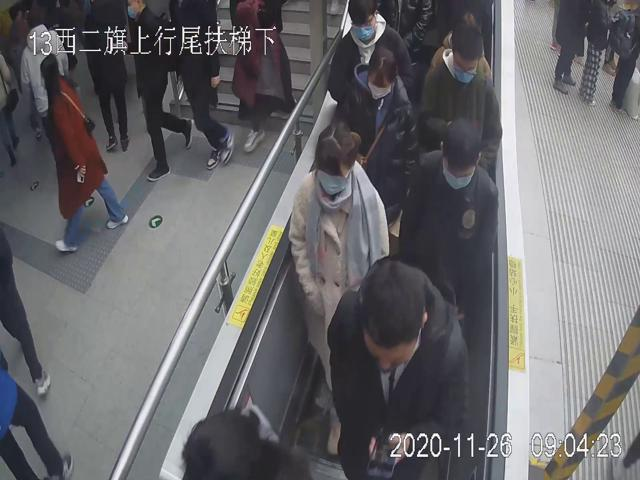person: (286, 120, 390, 452), (328, 252, 469, 479), (399, 116, 498, 320), (39, 56, 130, 256), (336, 44, 417, 227), (122, 0, 194, 181), (421, 23, 503, 172), (325, 0, 419, 110)
